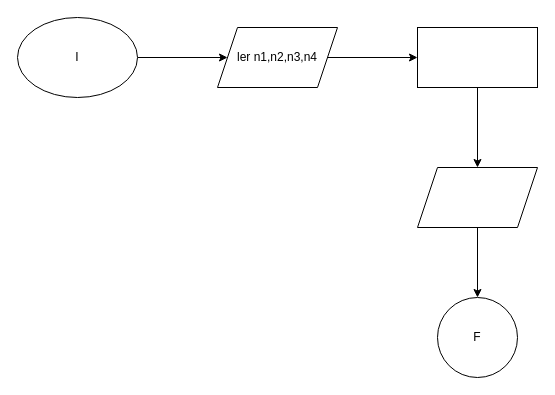
Image size: 555x395. Some labels were removed from this diagram. Each missing label, with the box of its shape:
escrever média: (416, 166, 538, 228)
média = n1+n2+n3+n4/4: (416, 26, 538, 88)
